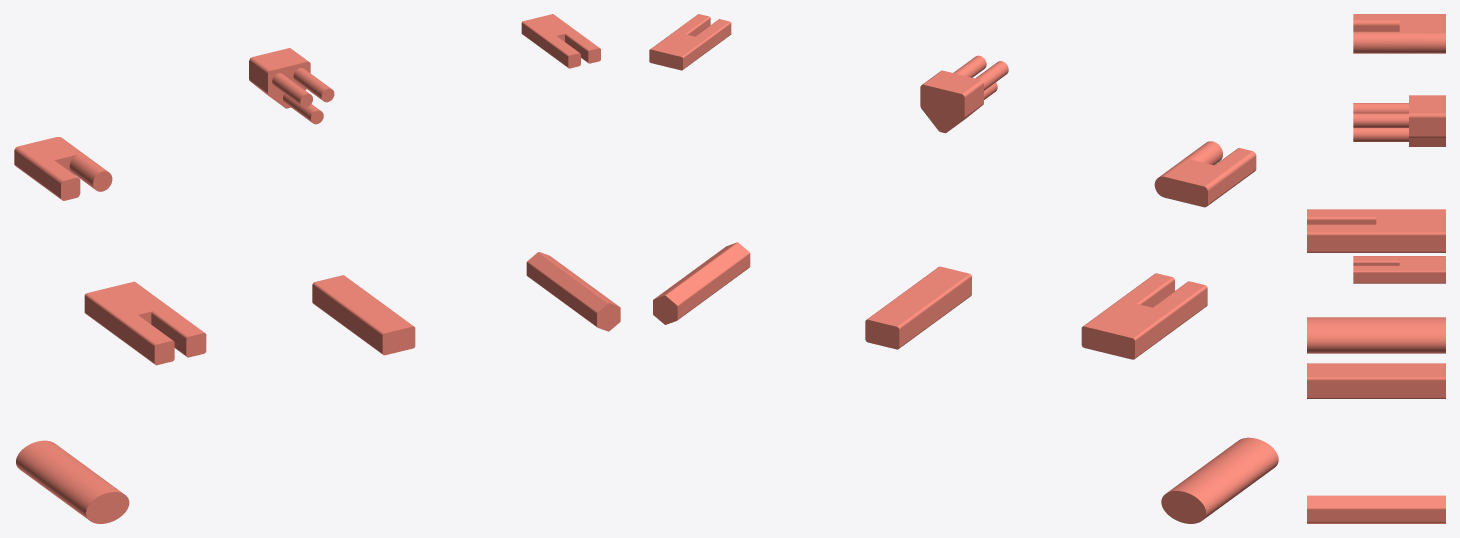
3 views of the same model, side by side, from view 1: azimuth 30°, elevation 25°; view 2: azimuth 150°, elevation 25°; view 3: azimuth 270°, elevation 25° (orthographic). The views are drawn at different scales.
Parts seen in each view (by area): view 1: obj6; view 2: obj6; view 3: obj6.
Boxes of the visible parts, x1=… form: obj6: x1=14, y1=14, x2=620, y2=523; obj6: x1=649, y1=14, x2=1278, y2=523; obj6: x1=1307, y1=14, x2=1445, y2=523.
Size of the model in its own units: 666 by 427 by 150.
